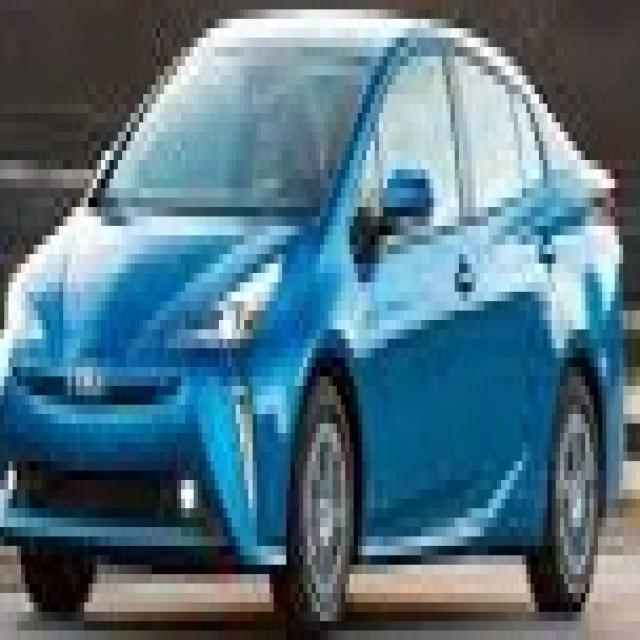blue: (2, 8, 630, 634)
